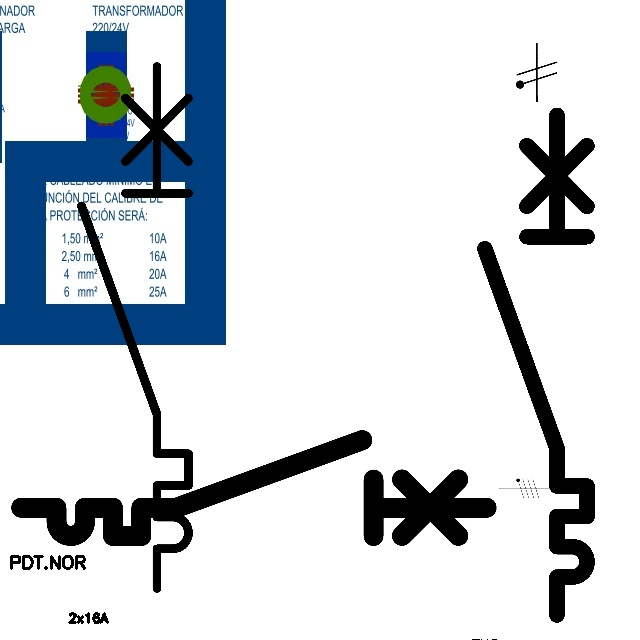interruptor_termomagnetico: (68, 53, 202, 602), (472, 102, 600, 627), (9, 428, 498, 548)
